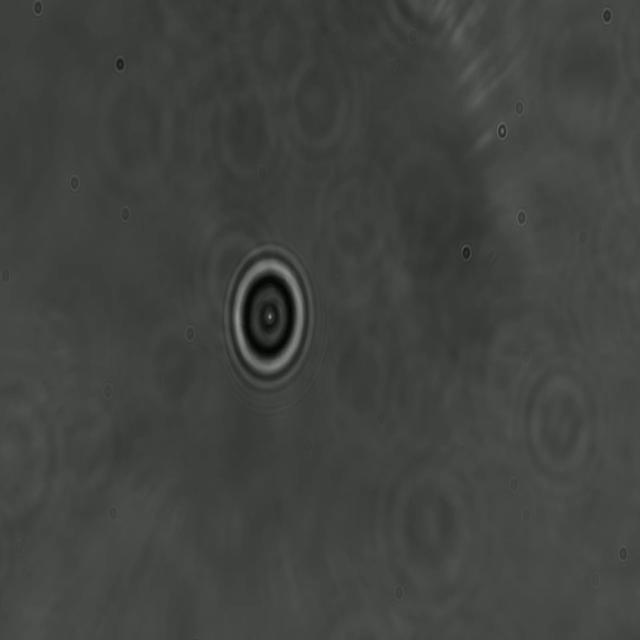LCELL: (222, 243, 316, 397)
